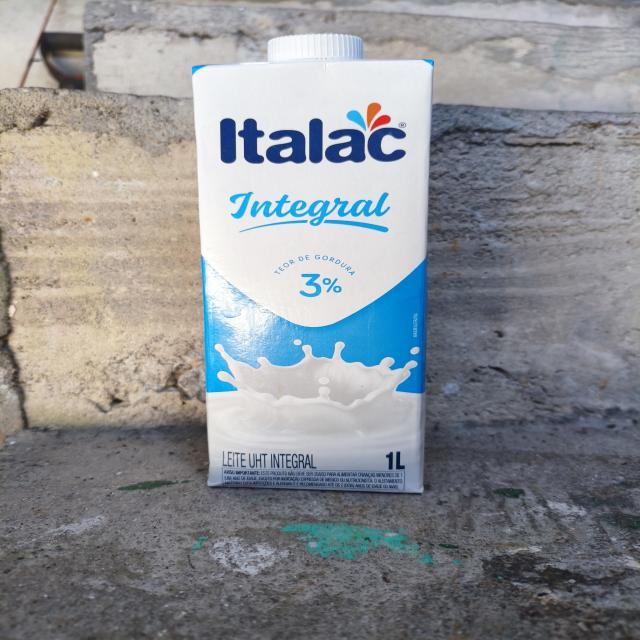Caixa de Leite: (190, 31, 438, 499)
